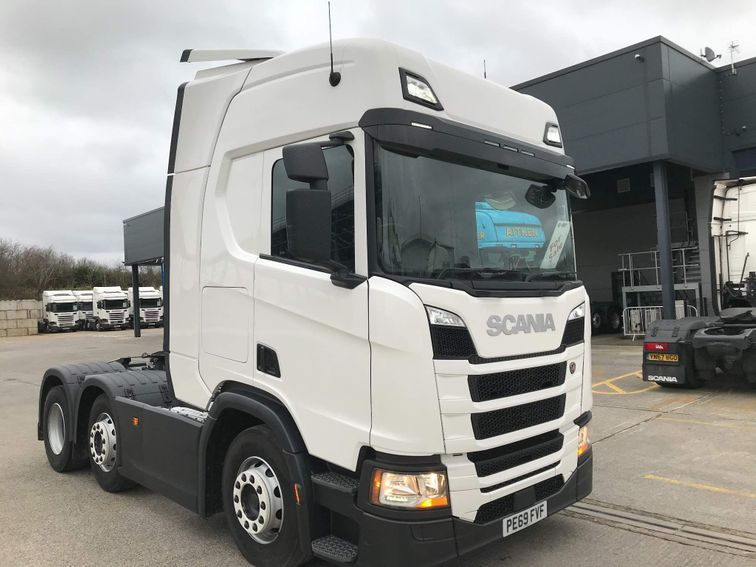Semi: (35, 36, 593, 566), (84, 285, 129, 332), (36, 288, 77, 330)
